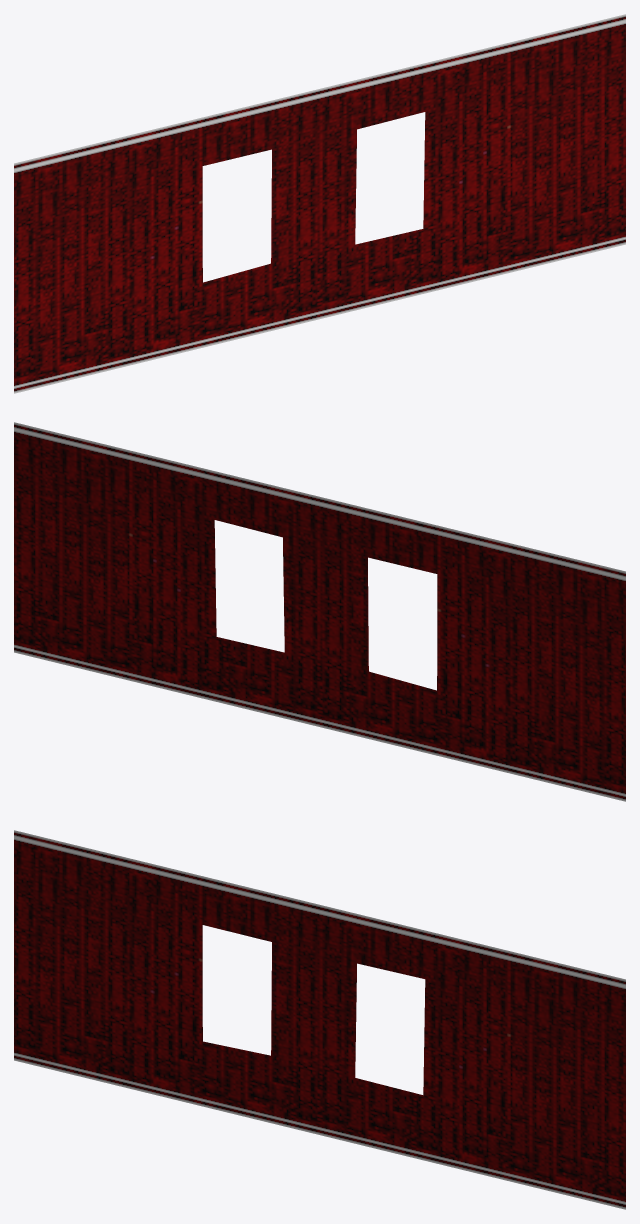
The model's file is W_AI2l_xffx [Rot]_2099.glb.
3 renders of one model, top to bottom at view 1: azimuth 30°, elevation 25°; view 2: azimuth 150°, elevation 25°; view 3: azimuth 330°, elevation 25°, orthographic.
Visible parts, largest first — view 1: polySurfaceShape872; view 2: polySurfaceShape872; view 3: polySurfaceShape872.
Part boxes in pixels (x1,y1,x2,y2): polySurfaceShape872: [14, 14, 625, 393]; polySurfaceShape872: [14, 422, 625, 801]; polySurfaceShape872: [14, 830, 625, 1209].
Size of the model in its own units: 0.9692 by 0.3486 by 1.52e-08.
1 material, 1 textured.
